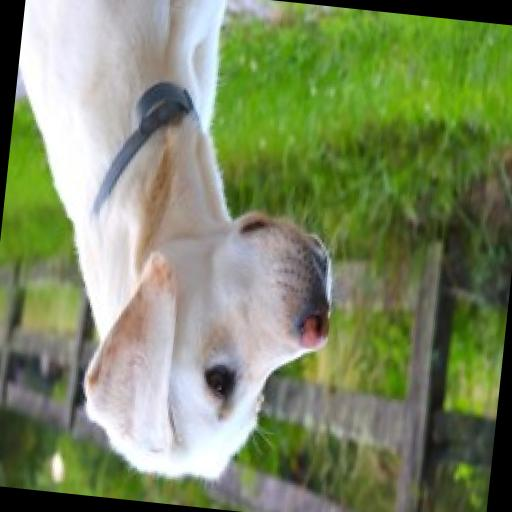dog: (0, 0, 375, 503)
